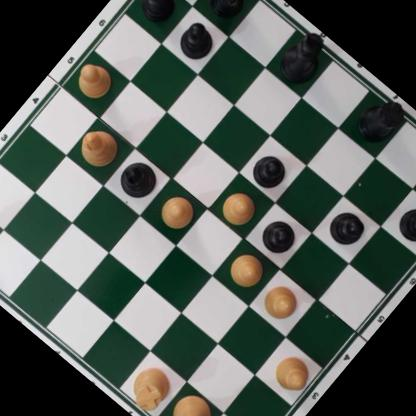black-bishop: (113, 154, 164, 206)
black-king: (271, 24, 338, 92)
black-knight: (199, 0, 259, 22)
black-pawn: (172, 17, 222, 68), (324, 203, 371, 251), (256, 212, 303, 260), (245, 147, 293, 194), (132, 0, 184, 28), (392, 198, 416, 251)
black-rook: (349, 87, 412, 151)
white-bishop: (73, 121, 125, 173)
white-king: (158, 386, 224, 416)
white-pawn: (266, 348, 318, 399), (256, 277, 306, 326), (214, 183, 263, 231), (70, 56, 119, 104), (224, 246, 271, 293), (154, 188, 200, 234)
white-rook: (122, 358, 179, 416)
